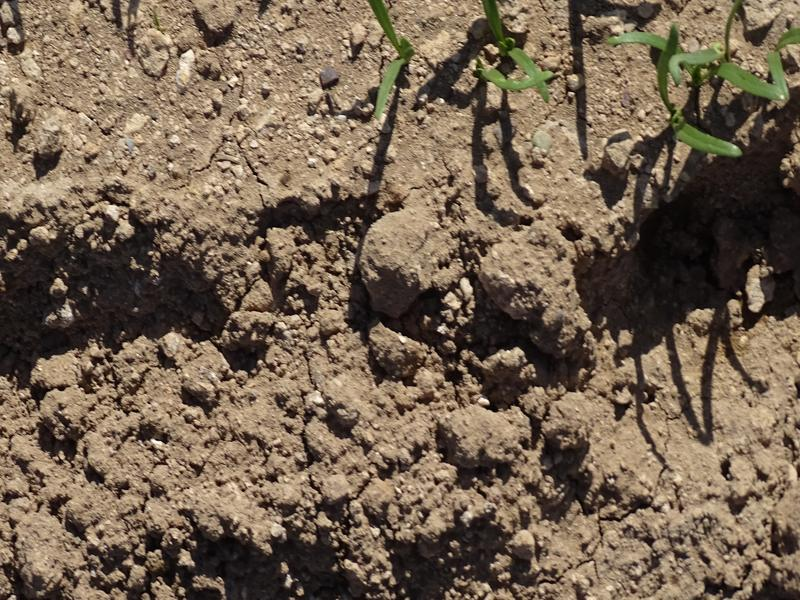Espinaca: (616, 20, 797, 163), (473, 2, 558, 104), (364, 1, 412, 125)
